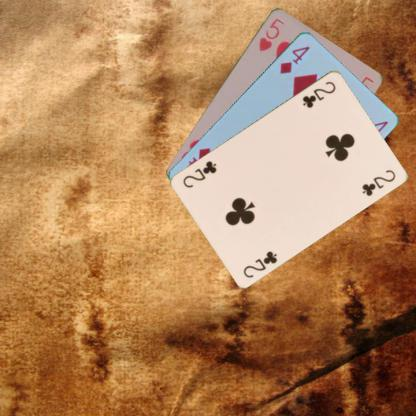2c: (240, 248, 278, 279), (300, 78, 337, 109)
4d: (277, 43, 312, 75)
5h: (256, 15, 285, 53)
